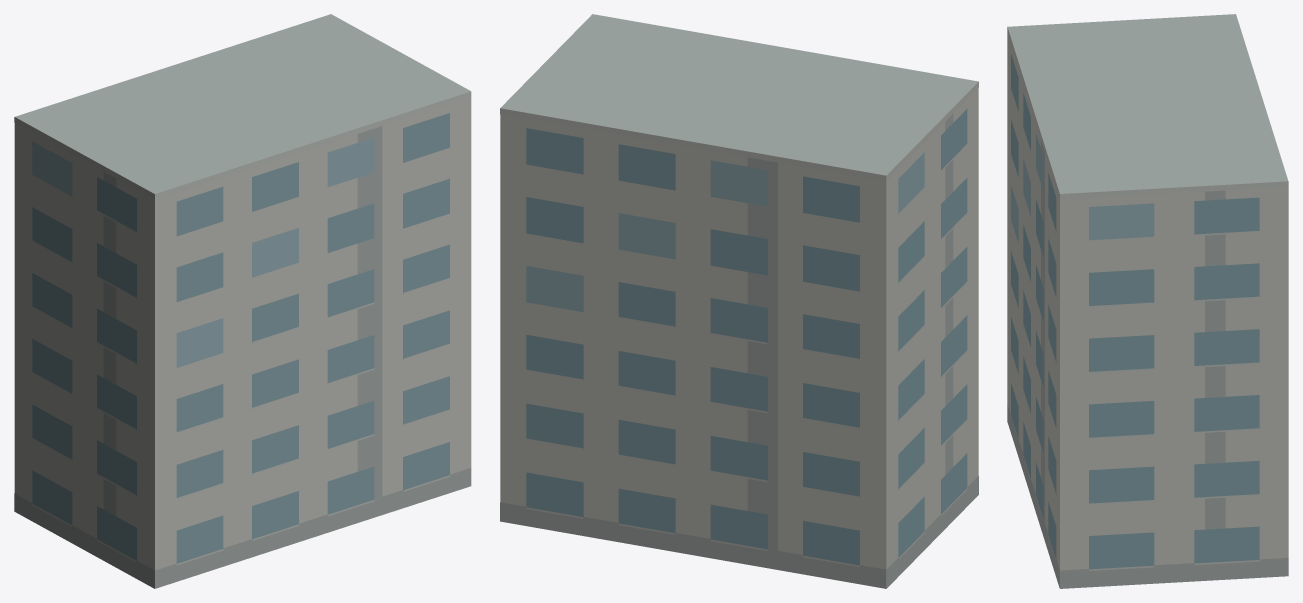
Rendered from survey-upis-32953498.glb.
3 renders of one model, left to right at view 1: azimuth 30°, elevation 25°; view 2: azimuth 150°, elevation 25°; view 3: azimuth 270°, elevation 25°, orthographic. The views are drawn at different scales.
Visible parts, largest first — view 1: survey-upis-32953498.tmp; view 2: survey-upis-32953498.tmp; view 3: survey-upis-32953498.tmp.
Part boxes in pixels (x1,y1,x2,y2): survey-upis-32953498.tmp: [14, 14, 471, 588]; survey-upis-32953498.tmp: [500, 14, 978, 588]; survey-upis-32953498.tmp: [1007, 14, 1288, 588].
Size of the model in its own units: 16.43 by 16.8 by 10.85.
